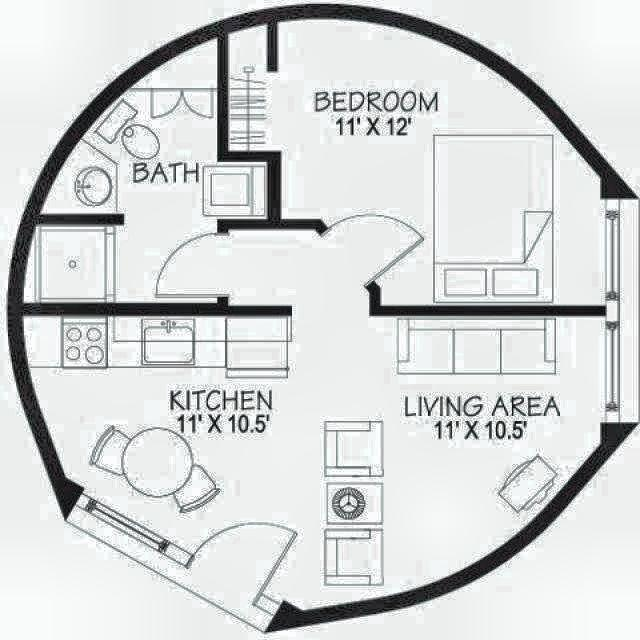room: (0, 156, 637, 640), (228, 19, 605, 306), (22, 37, 268, 303)
